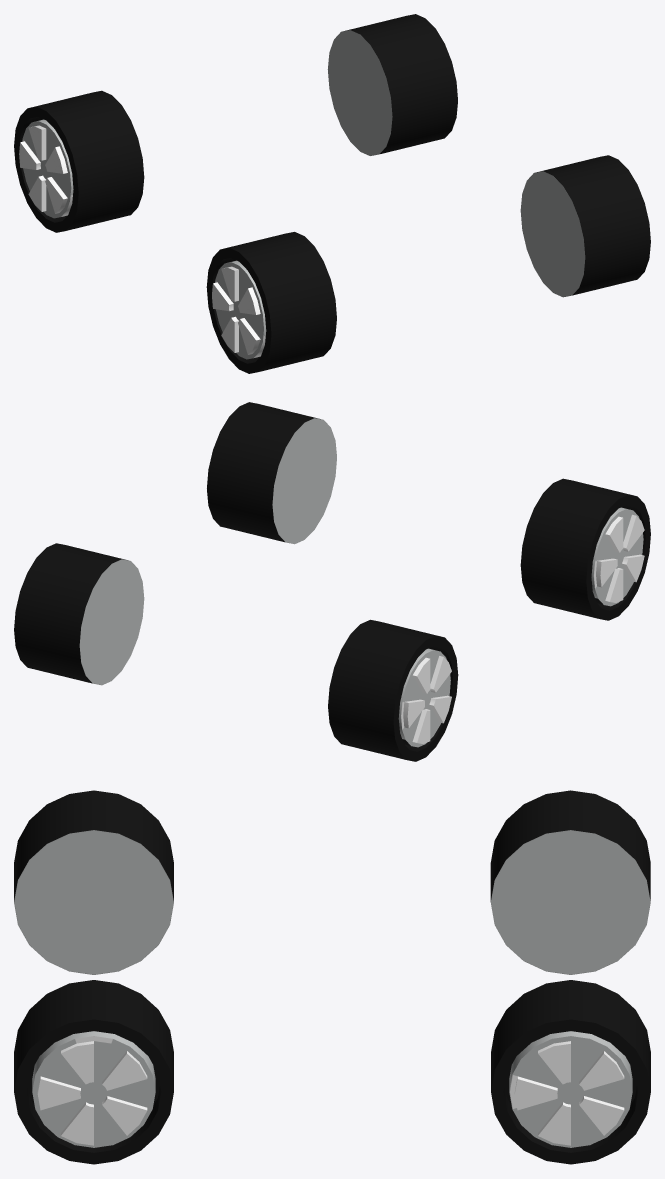
File: EV_TIRES.glb
3 views of the same model, one above another, from view 1: azimuth 30°, elevation 25°; view 2: azimuth 150°, elevation 25°; view 3: azimuth 270°, elevation 25° (orthographic). The views are drawn at different scales.
Size of the model in its own units: 1.75 by 0.5035 by 2.
Materials: 4 (4 with a texture image).
